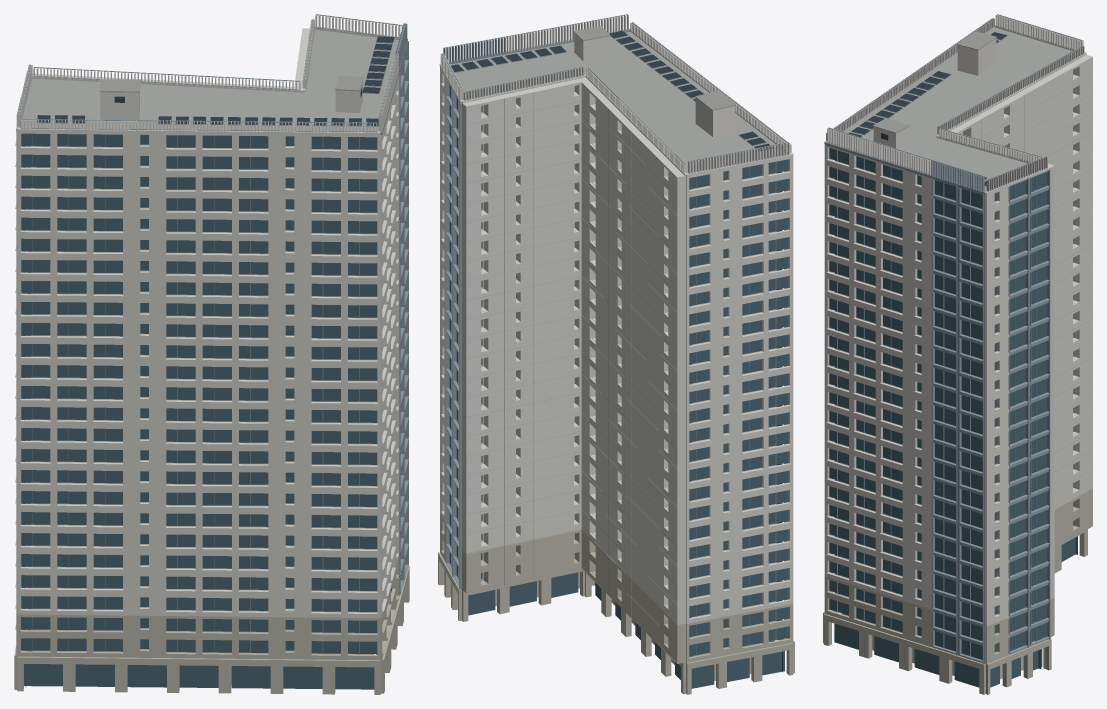
Rendered from bespoke-maple-xi-104.glb.
The picture shows the model from 3 angles, left to right: view 1: azimuth 30°, elevation 25°; view 2: azimuth 150°, elevation 25°; view 3: azimuth 270°, elevation 25°; orthographic projection. The views are drawn at different scales.
Visible parts, largest first — view 1: Maple104_numbered_plan_inset_body, Maple104_e0_end_glass, Maple104_recessed_stone_lobby, Maple104_numbered_plan_roof, Maple104_e0_end_unequal_sash, Maple104_PV_cells, Maple104_e1_cladding_joint, Maple104_PV_frame; view 2: Maple104_numbered_plan_inset_body, Maple104_e0_end_glass, Maple104_recessed_stone_lobby, Maple104_numbered_plan_roof, Maple104_e0_end_unequal_sash, Maple104_e1_cladding_joint, Maple104_PV_cells, Maple104_PV_frame; view 3: Maple104_numbered_plan_inset_body, Maple104_e0_end_glass, Maple104_e0_end_unequal_sash, Maple104_recessed_stone_lobby, Maple104_numbered_plan_roof, Maple104_e1_cladding_joint, Maple104_PV_cells.
Part boxes in pixels (x1=…): Maple104_numbered_plan_inset_body: x1=15, y1=14, x2=405, y2=654; Maple104_e0_end_glass: x1=21, y1=54, x2=404, y2=689; Maple104_recessed_stone_lobby: x1=14, y1=531, x2=409, y2=694; Maple104_numbered_plan_roof: x1=20, y1=29, x2=398, y2=131; Maple104_e0_end_unequal_sash: x1=18, y1=14, x2=408, y2=654; Maple104_PV_cells: x1=37, y1=36, x2=394, y2=125; Maple104_e1_cladding_joint: x1=99, y1=44, x2=399, y2=426; Maple104_PV_frame: x1=37, y1=36, x2=394, y2=126; Maple104_numbered_plan_inset_body: x1=439, y1=14, x2=793, y2=655; Maple104_e0_end_glass: x1=449, y1=85, x2=788, y2=688; Maple104_recessed_stone_lobby: x1=438, y1=514, x2=794, y2=694; Maple104_numbered_plan_roof: x1=450, y1=31, x2=787, y2=173; Maple104_e0_end_unequal_sash: x1=442, y1=14, x2=790, y2=655; Maple104_e1_cladding_joint: x1=466, y1=26, x2=735, y2=662; Maple104_PV_cells: x1=451, y1=30, x2=772, y2=150; Maple104_PV_frame: x1=454, y1=31, x2=772, y2=151; Maple104_numbered_plan_inset_body: x1=824, y1=14, x2=1092, y2=652; Maple104_e0_end_glass: x1=829, y1=148, x2=1077, y2=687; Maple104_e0_end_unequal_sash: x1=824, y1=14, x2=1082, y2=663; Maple104_recessed_stone_lobby: x1=823, y1=489, x2=1092, y2=694; Maple104_numbered_plan_roof: x1=844, y1=27, x2=1071, y2=191; Maple104_e1_cladding_joint: x1=873, y1=31, x2=1092, y2=662; Maple104_PV_cells: x1=848, y1=32, x2=1006, y2=185.
Size of the model in its own units: 57.71 by 83.57 by 38.84.
